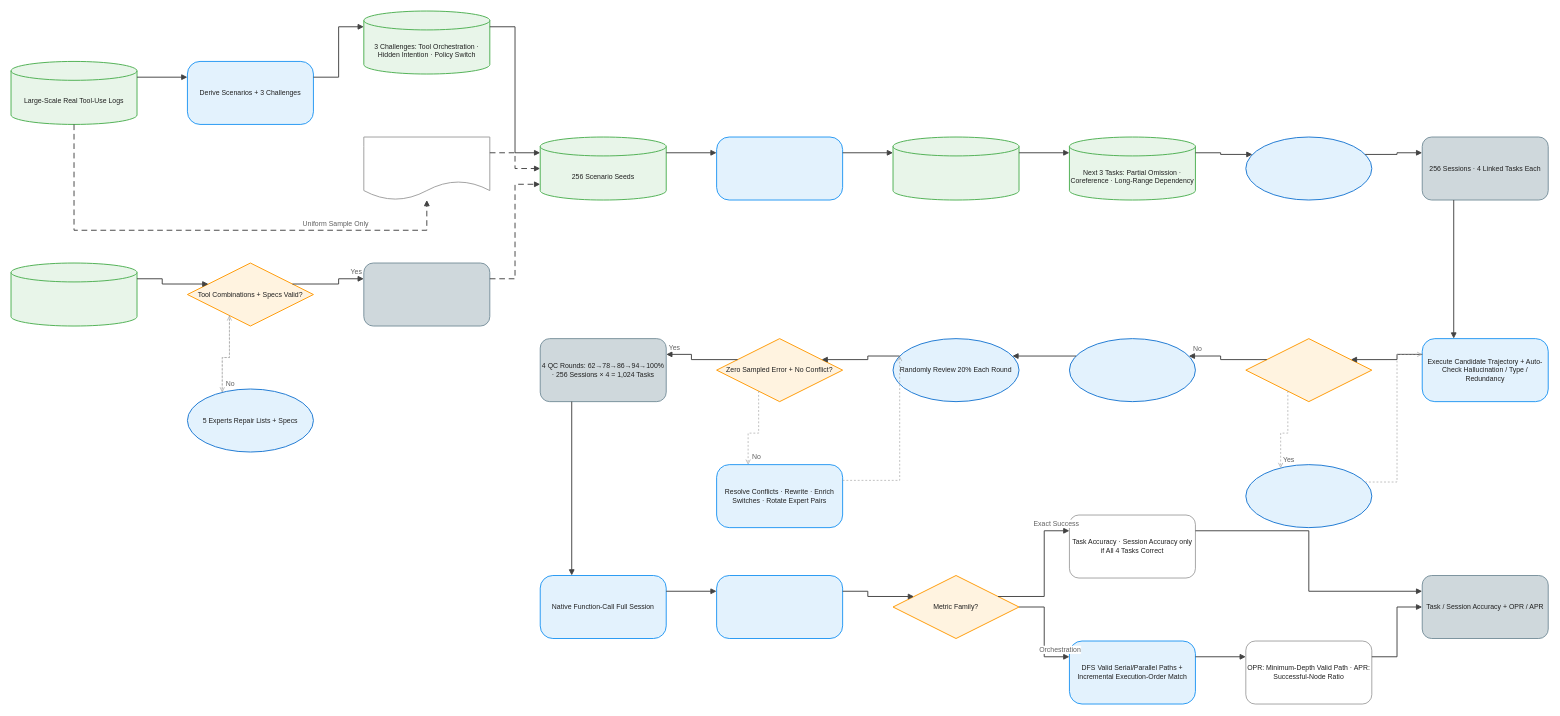
This 1560x716 diagram has some shape labels left out. The shapes that lost their labels are listed below. From the top down, each one's box as (x1, y1, x2, y2) in pixels, then its label:
(363, 136, 490, 200): Uniform Few-Shot Samples · No Raw Log Release
(716, 136, 843, 200): Diversify Syntax · Style · Context · Length · Difficulty
(892, 136, 1019, 200): First Task: Single · Multi-Step/Tool · Tool-Free · Clarify
(1245, 136, 1372, 200): Experts Select + Refine
(10, 262, 137, 326): Clean 1,600+ APIs → 400 Tool Lists · Primitive to Nested Parameters
(363, 262, 490, 326): Expert-Cleaned Tool Lists
(1069, 338, 1196, 402): Human-Annotated Dependency DAG
(1245, 338, 1372, 402): Tool-Call Issues Found?
(1245, 464, 1372, 528): 5 Experts Correct Plans + Arguments
(716, 575, 843, 639): Align Predictions to Gold Trajectory / DAG
